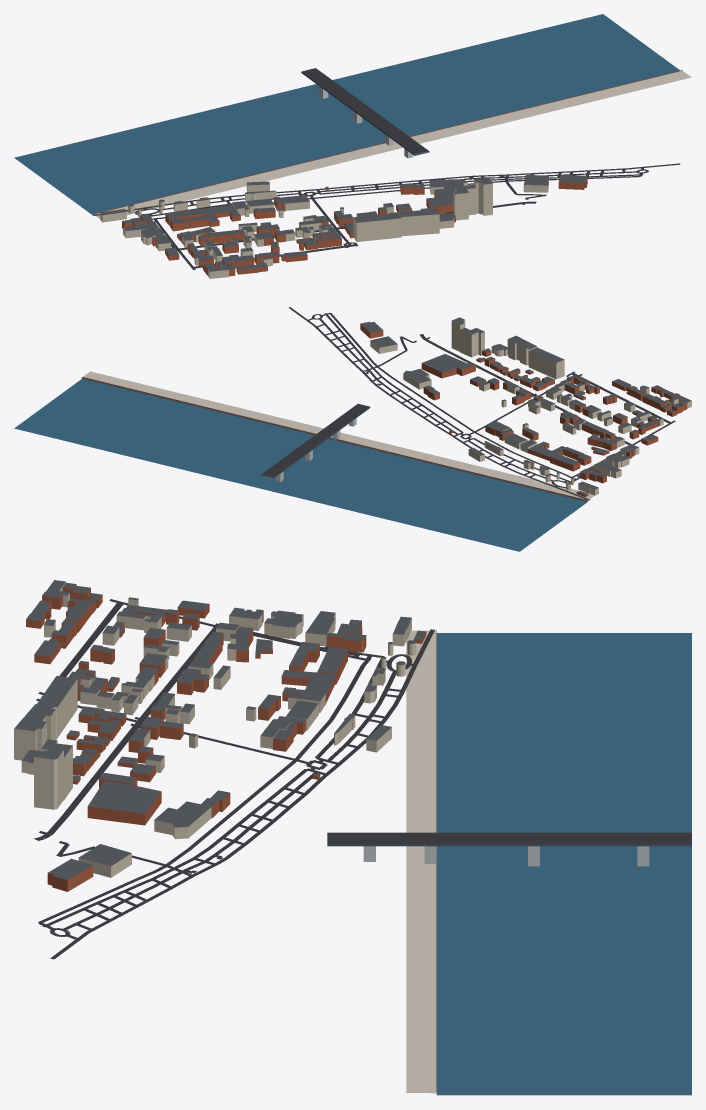
Rendered from RostovEmbankment.obj.
The picture shows the model from 3 angles, top to bottom: view 1: azimuth 30°, elevation 25°; view 2: azimuth 150°, elevation 25°; view 3: azimuth 270°, elevation 25°; orthographic projection. The views are drawn at different scales.
Size of the model in its own units: 906 by 83.27 by 558.
